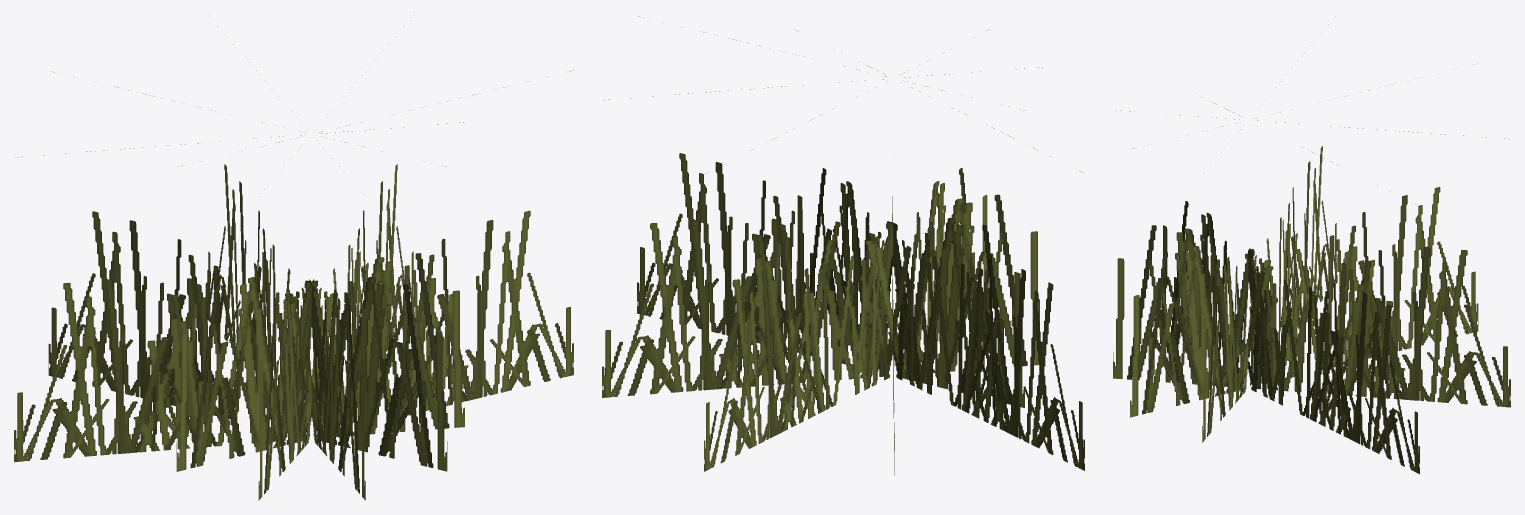
File: WK_VEG_WeedClump.glb
3 views of the same model, side by side, from view 1: azimuth 30°, elevation 25°; view 2: azimuth 150°, elevation 25°; view 3: azimuth 270°, elevation 25° (orthographic). The views are drawn at different scales.
Visible parts, largest first — view 1: WK_VEG_WeedClump_P05, WK_VEG_WeedClump_P01, WK_VEG_WeedClump_P04, WK_VEG_WeedClump_P03, WK_VEG_WeedClump_P02; view 2: WK_VEG_WeedClump_P02, WK_VEG_WeedClump_P05, WK_VEG_WeedClump_P03, WK_VEG_WeedClump_P01; view 3: WK_VEG_WeedClump_P03, WK_VEG_WeedClump_P04, WK_VEG_WeedClump_P02, WK_VEG_WeedClump_P05.
Part boxes in pixels (x1=…): WK_VEG_WeedClump_P05: x1=14, y1=122, x2=464, y2=461; WK_VEG_WeedClump_P01: x1=176, y1=70, x2=573, y2=471; WK_VEG_WeedClump_P04: x1=48, y1=71, x2=447, y2=471; WK_VEG_WeedClump_P03: x1=207, y1=26, x2=365, y2=500; WK_VEG_WeedClump_P02: x1=258, y1=15, x2=414, y2=500; WK_VEG_WeedClump_P02: x1=602, y1=67, x2=1042, y2=397; WK_VEG_WeedClump_P05: x1=797, y1=49, x2=1084, y2=470; WK_VEG_WeedClump_P03: x1=704, y1=37, x2=988, y2=471; WK_VEG_WeedClump_P01: x1=637, y1=16, x2=1024, y2=407; WK_VEG_WeedClump_P03: x1=1113, y1=110, x2=1510, y2=407; WK_VEG_WeedClump_P04: x1=1130, y1=90, x2=1478, y2=417; WK_VEG_WeedClump_P02: x1=1160, y1=102, x2=1419, y2=474; WK_VEG_WeedClump_P05: x1=1202, y1=16, x2=1337, y2=442.
Bounding box in the file's own units: 0.9614 × 0.55 × 0.7391.
1 material, 1 textured.
